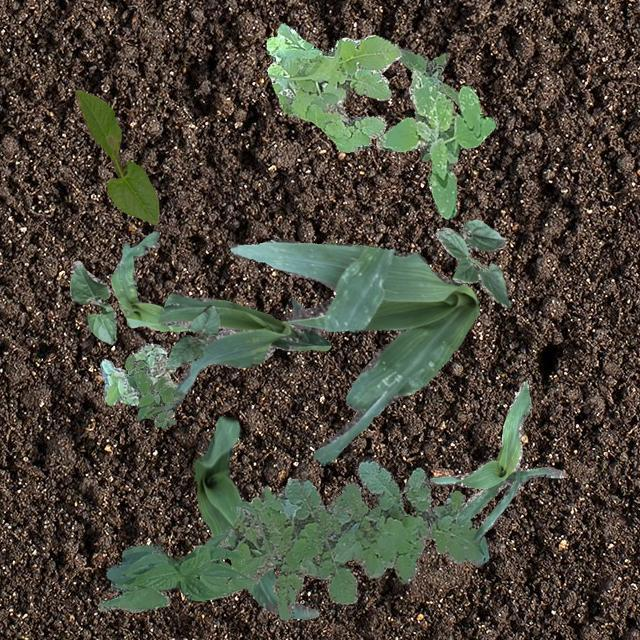crop: (230, 238, 478, 464), (192, 414, 318, 618), (428, 379, 564, 542), (158, 290, 330, 412), (97, 528, 255, 612), (74, 88, 158, 224), (110, 230, 188, 330), (434, 218, 510, 306), (70, 260, 116, 344), (166, 304, 218, 368)
weed: (230, 458, 488, 620), (266, 22, 404, 152), (376, 68, 494, 218), (397, 47, 459, 161), (100, 342, 176, 404), (124, 353, 184, 428)
